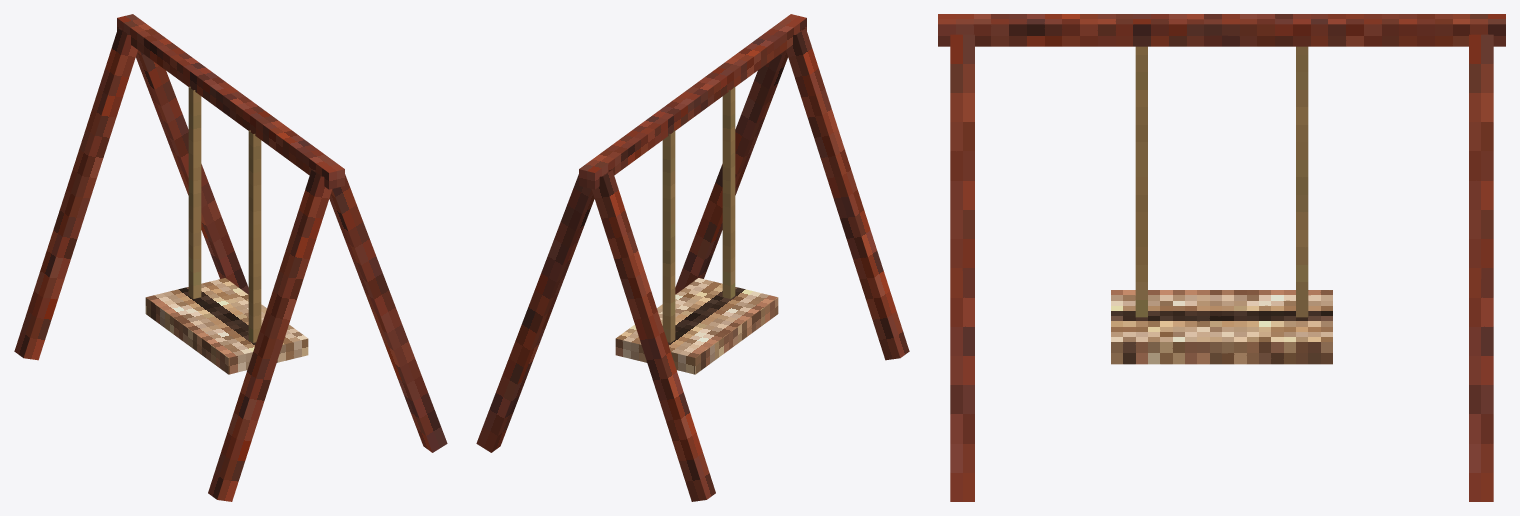
The model's file is balanco.fbx.
3 views of the same model, side by side, from view 1: azimuth 30°, elevation 25°; view 2: azimuth 150°, elevation 25°; view 3: azimuth 270°, elevation 25° (orthographic). The views are drawn at different scales.
Visible parts, largest first — view 1: cube, cube_4, cube_2, cube_1, cube_3, cube_5; view 2: cube_4, cube, cube_2, cube_1, cube_5, cube_3; view 3: cube_1, cube_2, cube, cube_4, cube_3, cube_5.
Part boxes in pixels (<box>): cube: <box>208,169,447,501</box>; cube_4: <box>14,28,248,360</box>; cube_2: <box>145,278,308,374</box>; cube_1: <box>117,14,344,189</box>; cube_3: <box>188,86,201,298</box>; cube_5: <box>248,130,261,342</box>; cube_4: <box>476,169,715,501</box>; cube: <box>675,28,909,360</box>; cube_2: <box>615,278,778,374</box>; cube_1: <box>579,14,806,189</box>; cube_5: <box>722,86,735,298</box>; cube_3: <box>662,130,675,342</box>; cube_1: <box>938,14,1505,46</box>; cube_2: <box>1111,290,1332,364</box>; cube: <box>950,34,974,501</box>; cube_4: <box>1469,34,1493,501</box>; cube_3: <box>1296,46,1308,317</box>; cube_5: <box>1135,46,1147,317</box>.
Size of the model in its own units: 180 by 232 by 288.
Materials: 3 (3 with a texture image).
